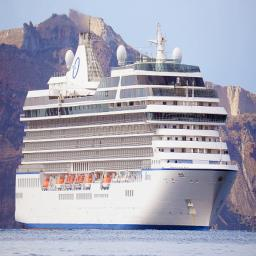cruises: (12, 25, 242, 234)
